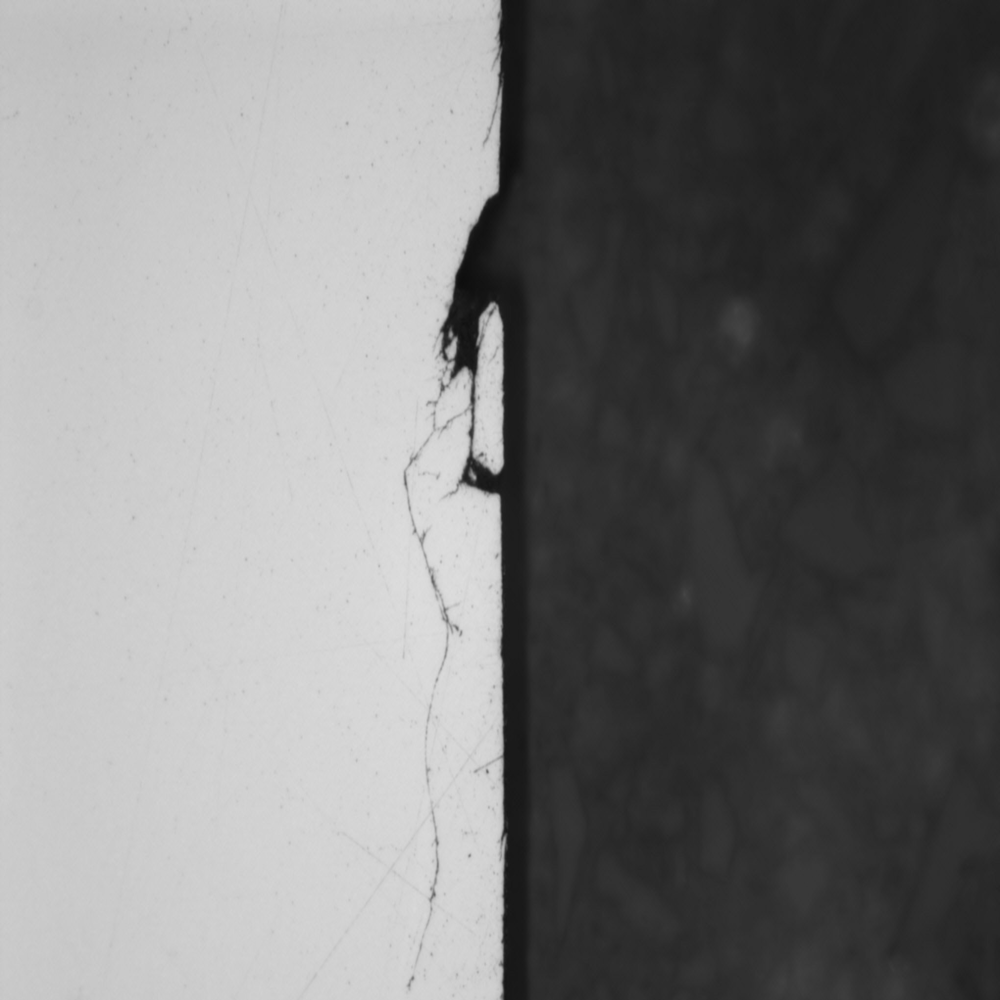crack: (396, 174, 535, 561)
